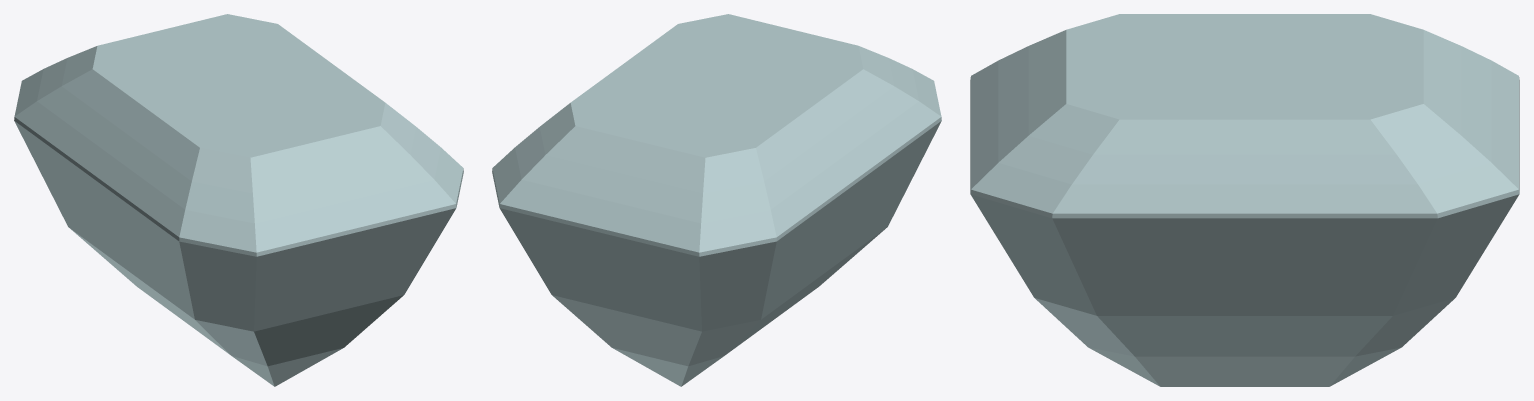
Rendered from stepCut.fbx.
3 views of the same model, side by side, from view 1: azimuth 30°, elevation 25°; view 2: azimuth 150°, elevation 25°; view 3: azimuth 270°, elevation 25° (orthographic). The views are drawn at different scales.
Parts seen in each view (by area): view 1: stone_step_cut; view 2: stone_step_cut; view 3: stone_step_cut.
Boxes of the visible parts, x1=… form: stone_step_cut: x1=14, y1=14, x2=463, y2=386; stone_step_cut: x1=492, y1=14, x2=941, y2=386; stone_step_cut: x1=970, y1=14, x2=1519, y2=386.
Size of the model in its own units: 0.9265 by 0.8538 by 1.33.
